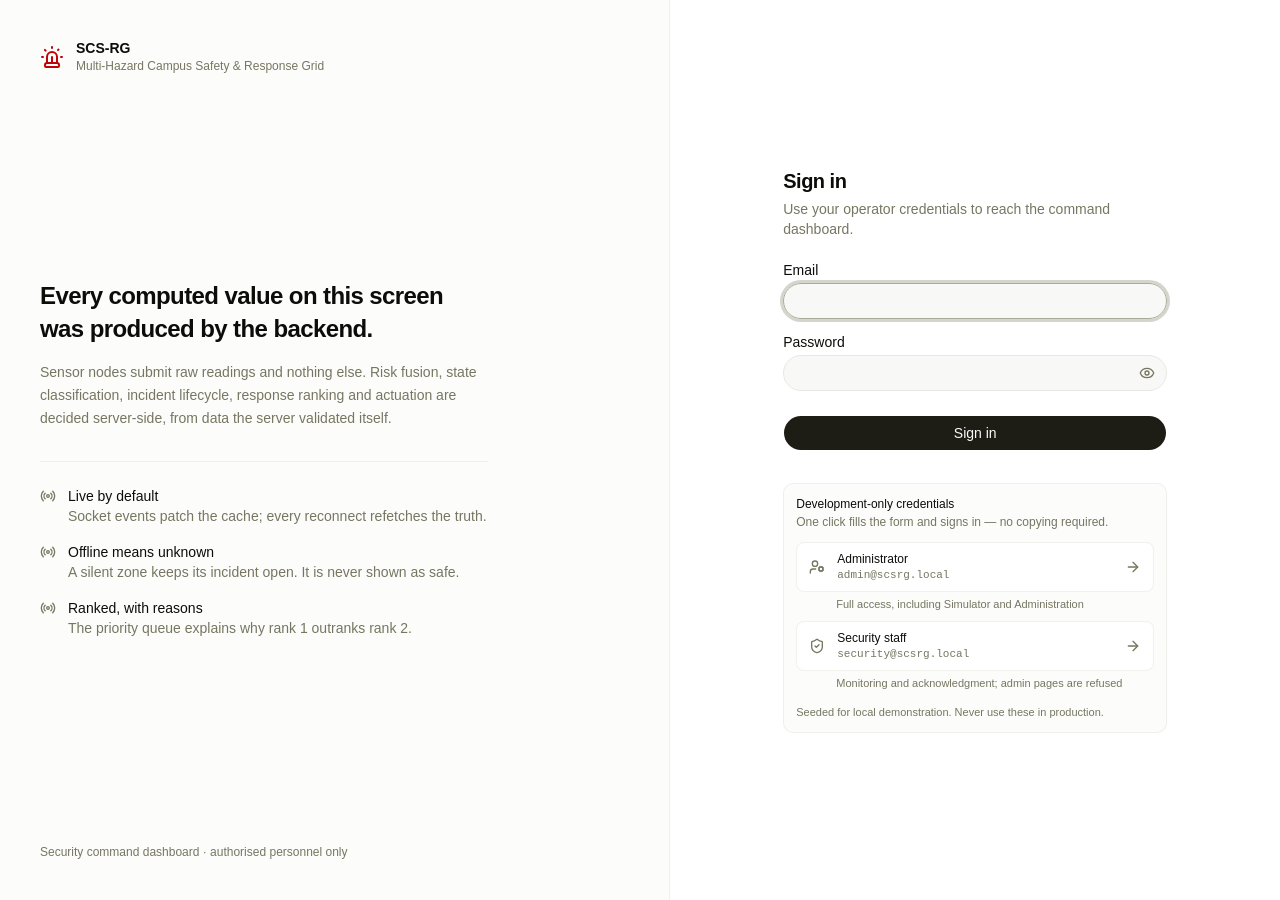
Test: login › requires a password of at least eight characters
Step 1. Type "security@scsrg.local" into the field labelled "Email" → (975, 301), box [783,283,1167,319]
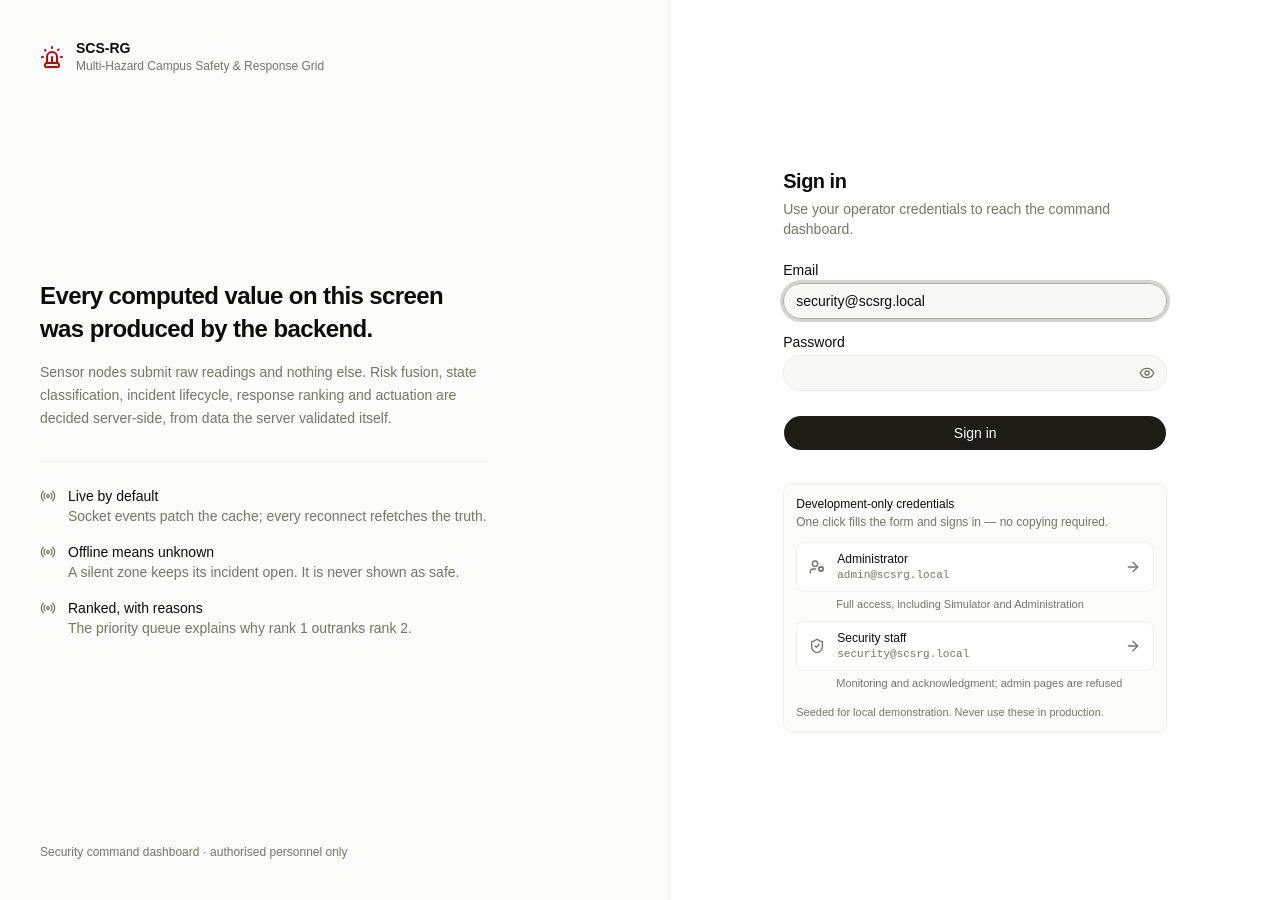
Step 2. Type "short" into the password field labelled "Password" → (975, 373), box [783,355,1167,391]
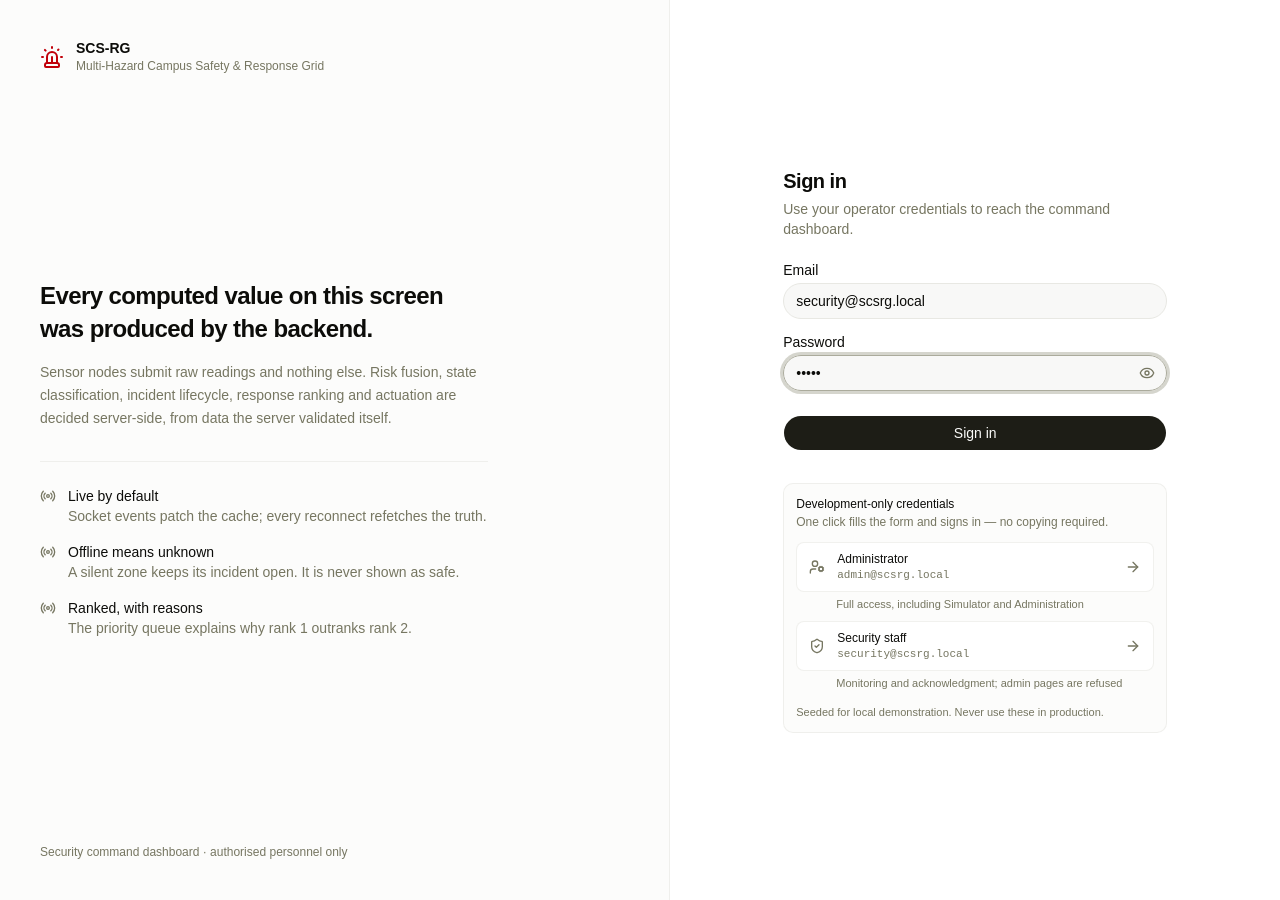
Step 3. Click the button "Sign in" → (975, 433), box [783,415,1167,451]
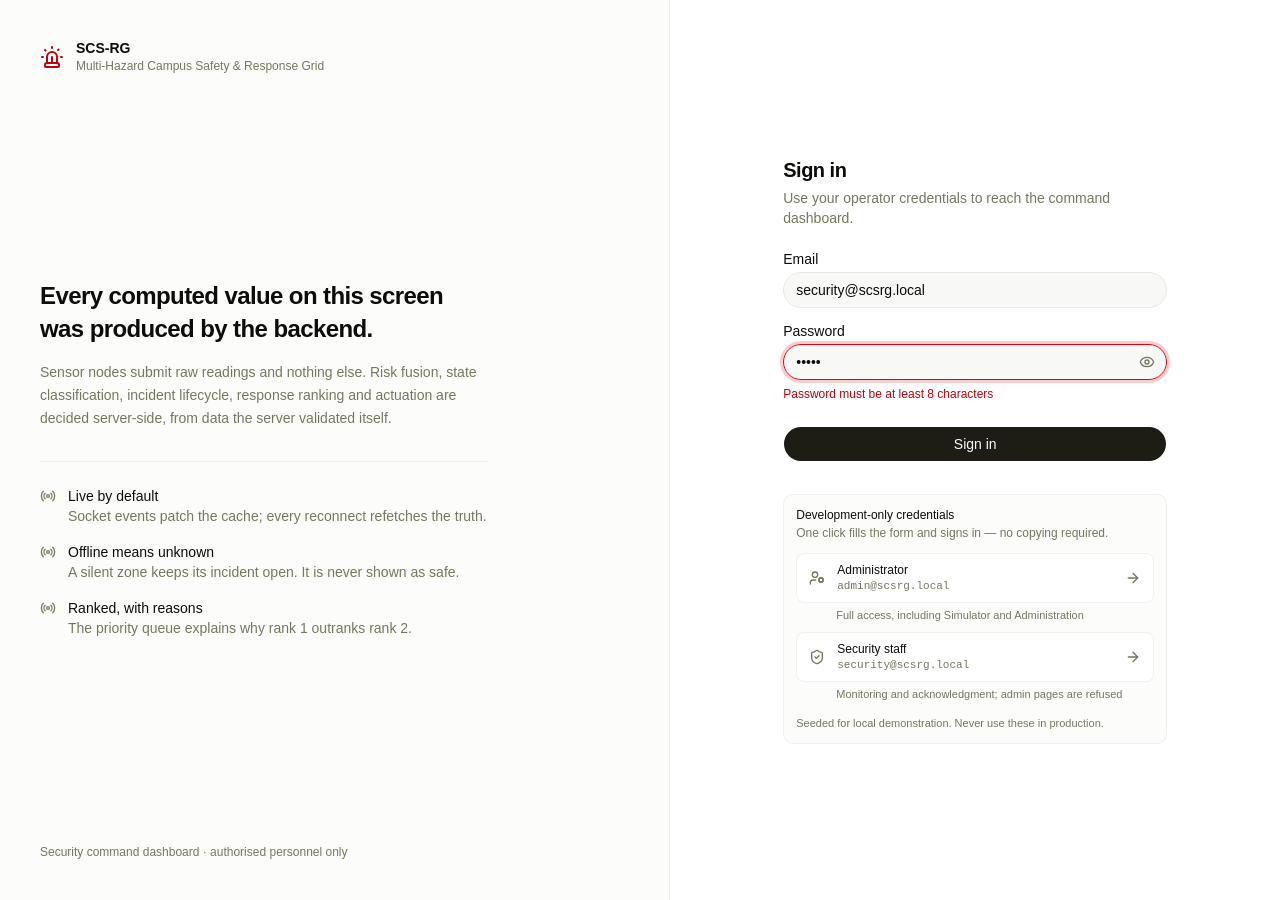
Check: the text "Password must be at least 8 characters" is shown, box [783,387,993,401]
